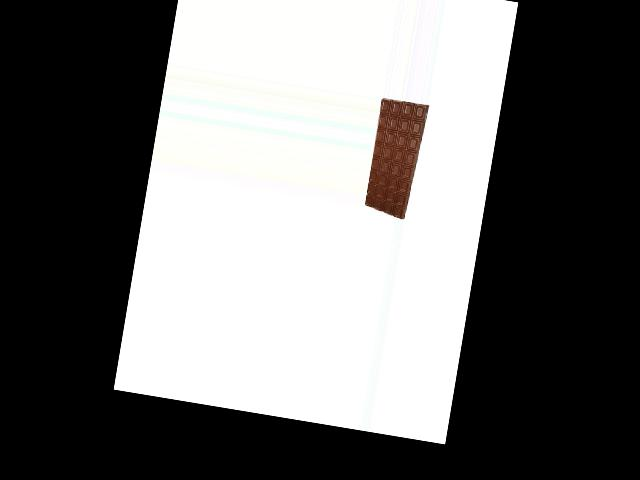chocolate: (362, 96, 427, 221)
